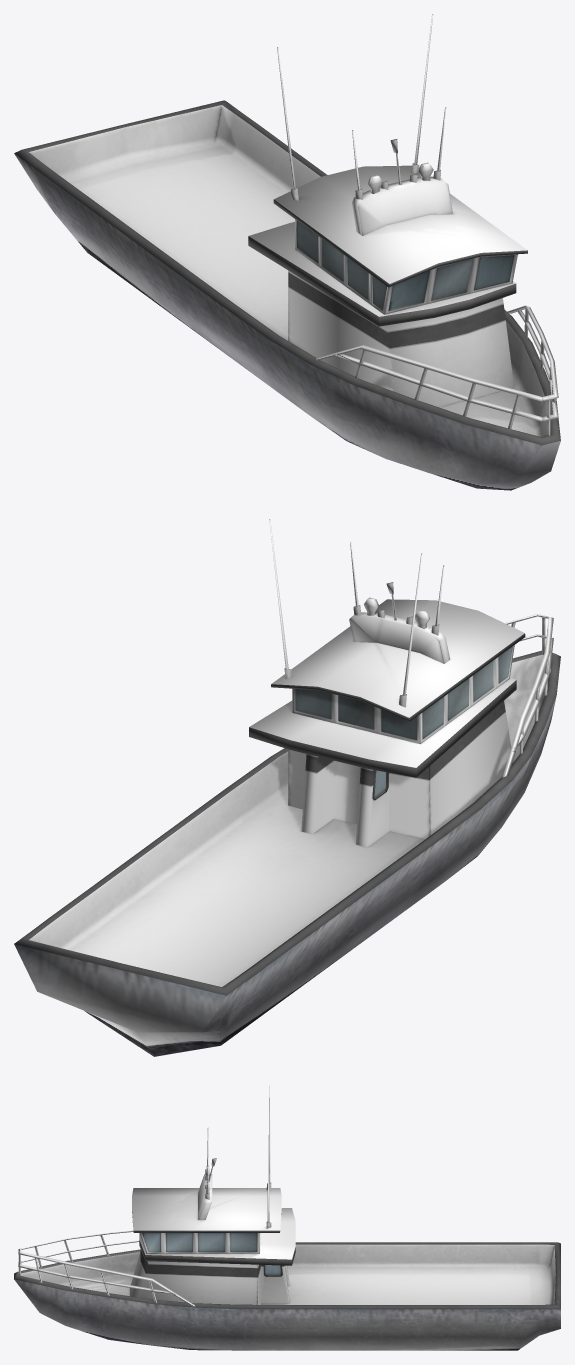
File: trawler.FBX
The picture shows the model from 3 angles, top to bottom: view 1: azimuth 30°, elevation 25°; view 2: azimuth 150°, elevation 25°; view 3: azimuth 270°, elevation 25°; orthographic projection. The views are drawn at different scales.
Parts seen in each view (by area): view 1: trawler; view 2: trawler; view 3: trawler.
Part boxes in pixels (x1=…): trawler: x1=14, y1=14, x2=560, y2=490; trawler: x1=14, y1=519, x2=560, y2=1056; trawler: x1=14, y1=1085, x2=560, y2=1350.
Bounding box in the file's own units: 226 × 382 × 790.
